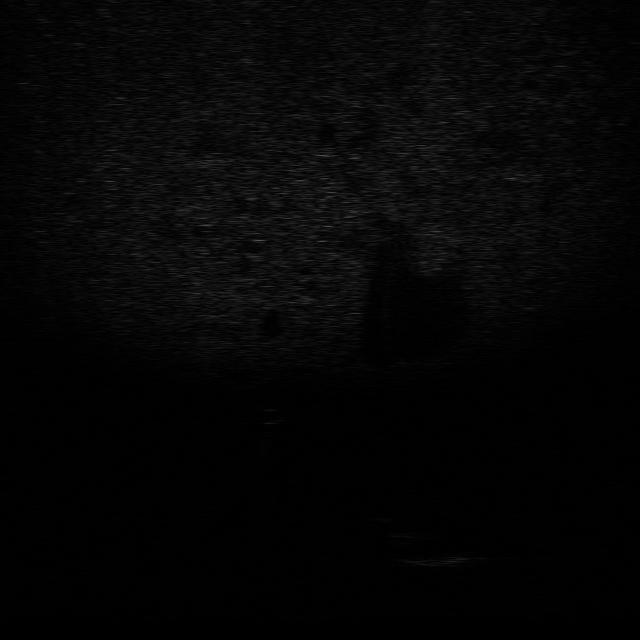ball: (252, 406, 290, 427)
metal bucket: (398, 549, 482, 572)
tyre: (362, 511, 422, 545)
